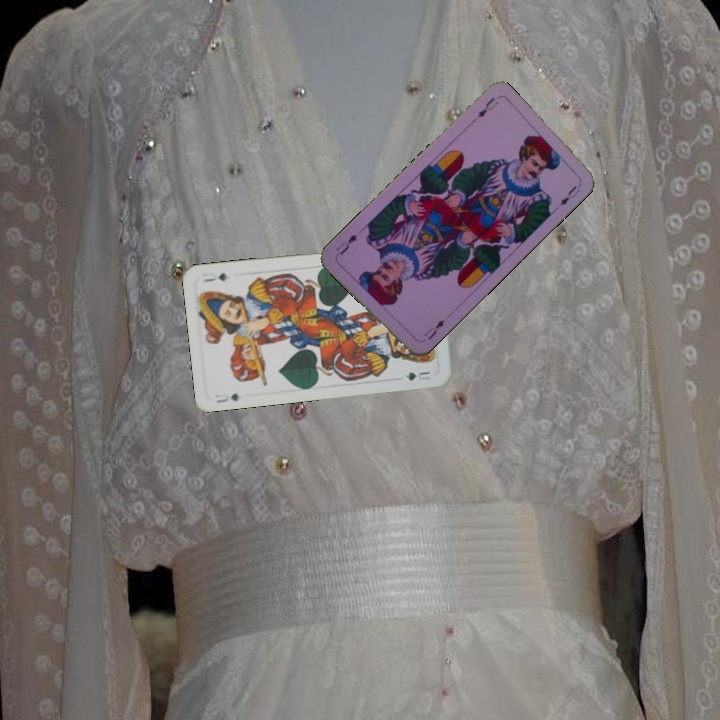EU: (473, 93, 501, 120), (420, 316, 447, 343)
GU: (211, 389, 242, 406)
